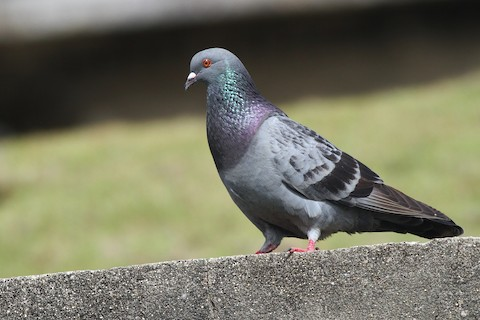pigeon: (182, 45, 465, 255)
